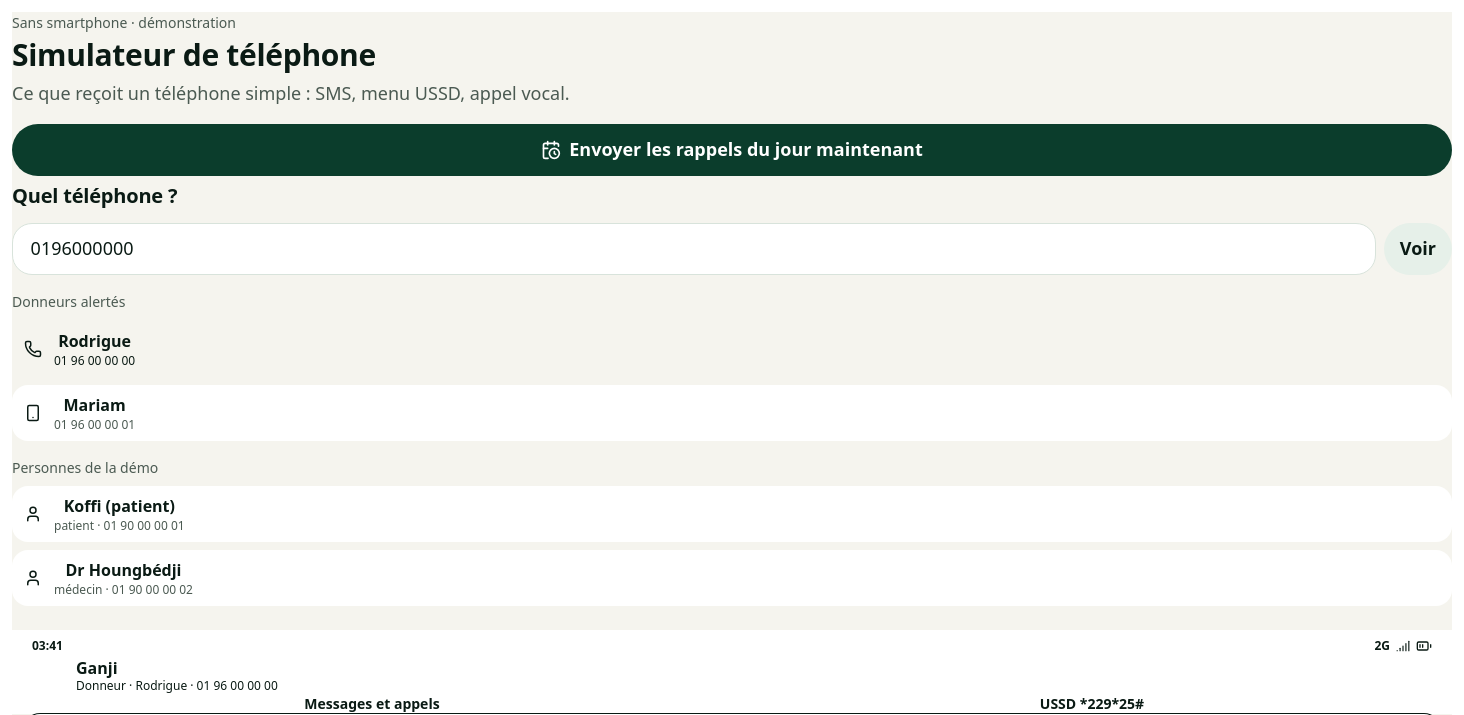
Scenario: rappels du jour › déclenche l’envoi et résume ce qui est parti
What coordinates should you click on to do the following:
click the button "Envoyer les rappels du jour maintenant"
I would click on:
 (732, 150)
Its box is [12, 124, 1452, 176].
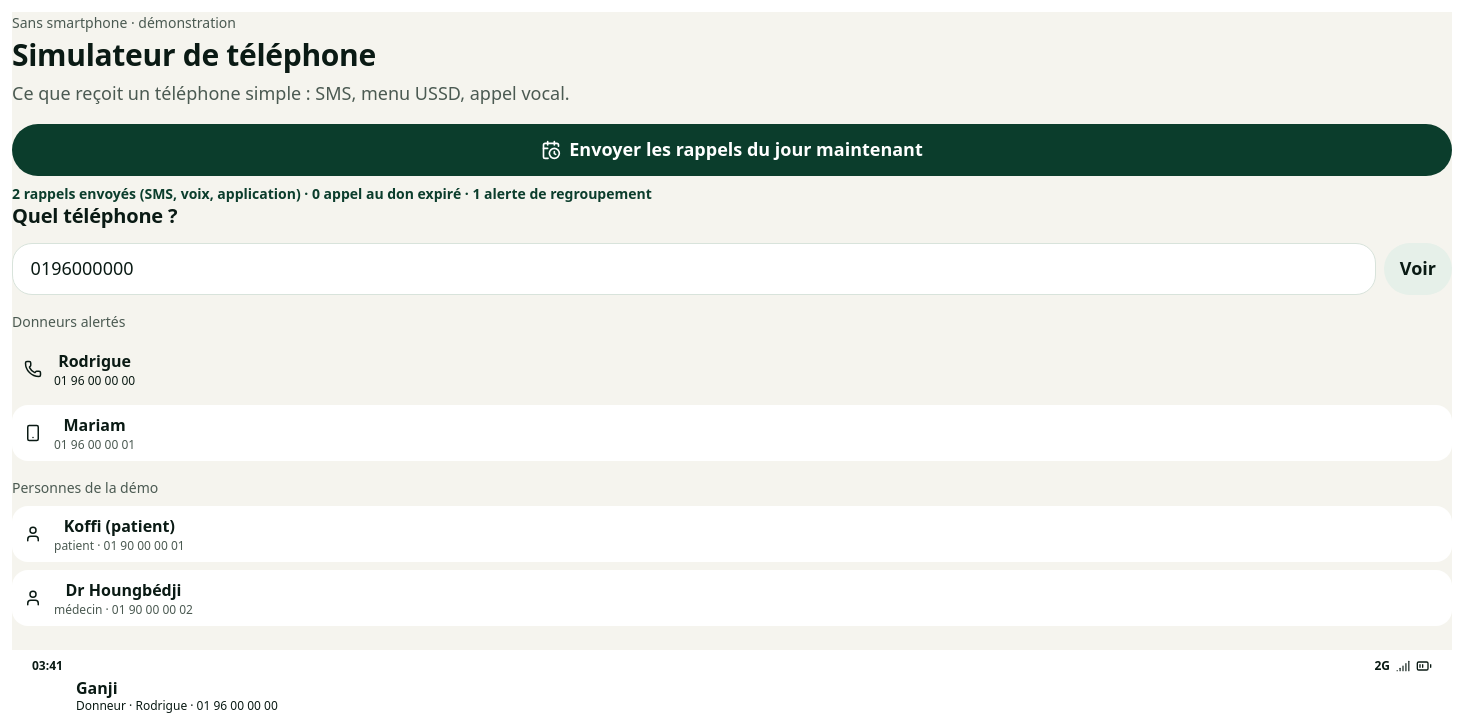
Now the text "2 rappels envoyés (SMS, voix, application) · 0 appel au don expiré · 1 alerte de regroupement" is shown, box [12, 184, 652, 203]
